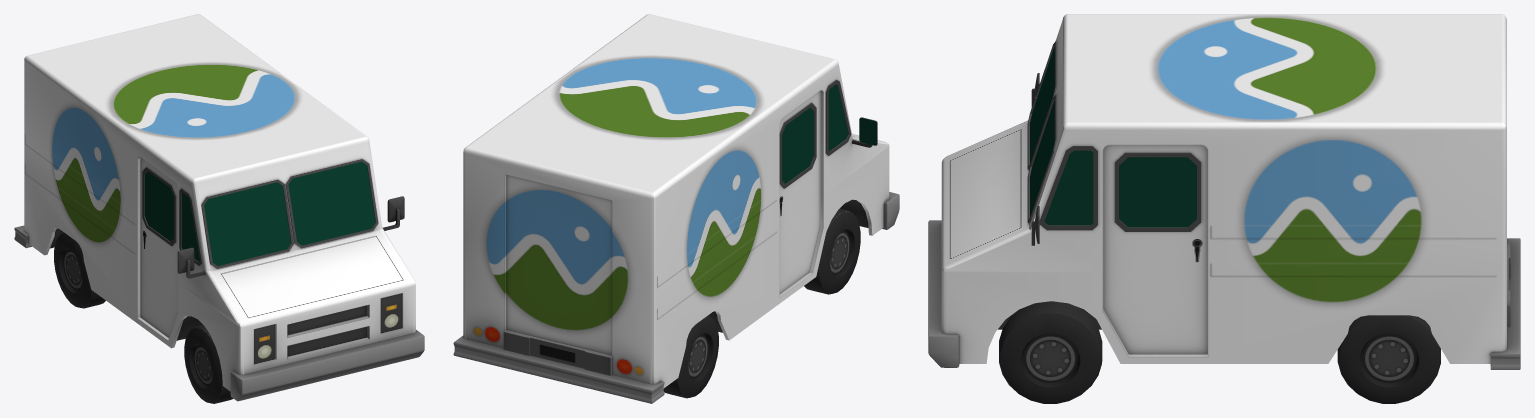
File: CesiumMilkTruck.fbx
The picture shows the model from 3 angles, left to right: view 1: azimuth 30°, elevation 25°; view 2: azimuth 150°, elevation 25°; view 3: azimuth 270°, elevation 25°; orthographic projection. The views are drawn at different scales.
Visible parts, largest first — view 1: Cesium_Milk_Truck, Wheels, Wheels.001; view 2: Cesium_Milk_Truck, Wheels, Wheels.001; view 3: Cesium_Milk_Truck, Wheels, Wheels.001.
Part boxes in pixels (<box>): Cesium_Milk_Truck: <box>14,14,424,401</box>; Wheels: <box>184,324,233,403</box>; Wheels.001: <box>54,232,105,308</box>; Cesium_Milk_Truck: <box>453,14,899,403</box>; Wheels: <box>804,208,860,294</box>; Wheels.001: <box>663,315,718,398</box>; Cesium_Milk_Truck: <box>928,14,1520,369</box>; Wheels: <box>999,301,1102,403</box>; Wheels.001: <box>1337,315,1440,403</box>.
Size of the model in its own units: 279 by 258 by 487.
4 materials, 2 textured.
